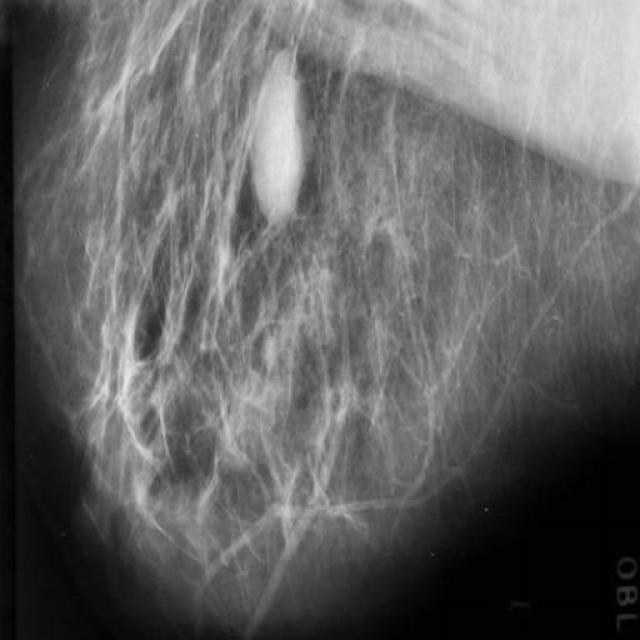cancer: (262, 472, 332, 588)
